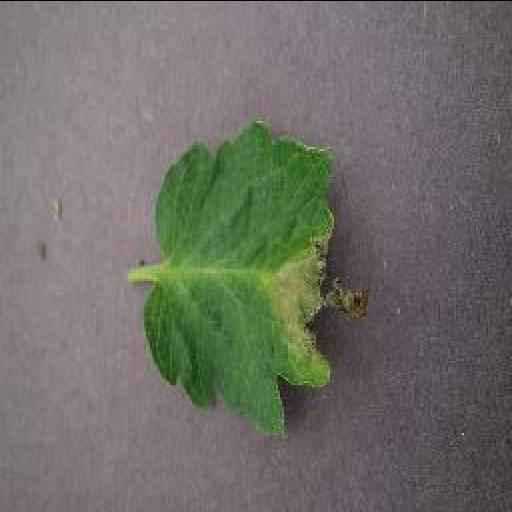disease_tomato: (142, 115, 372, 437)
